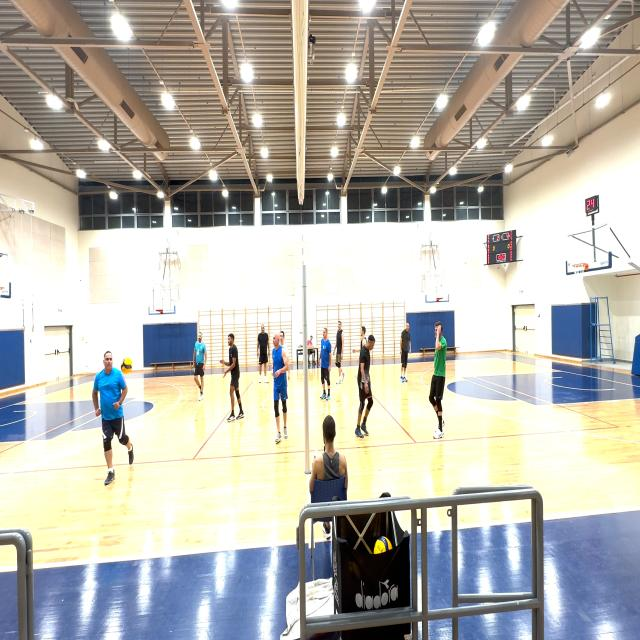volleyball: (373, 535, 392, 555), (121, 357, 132, 374)
